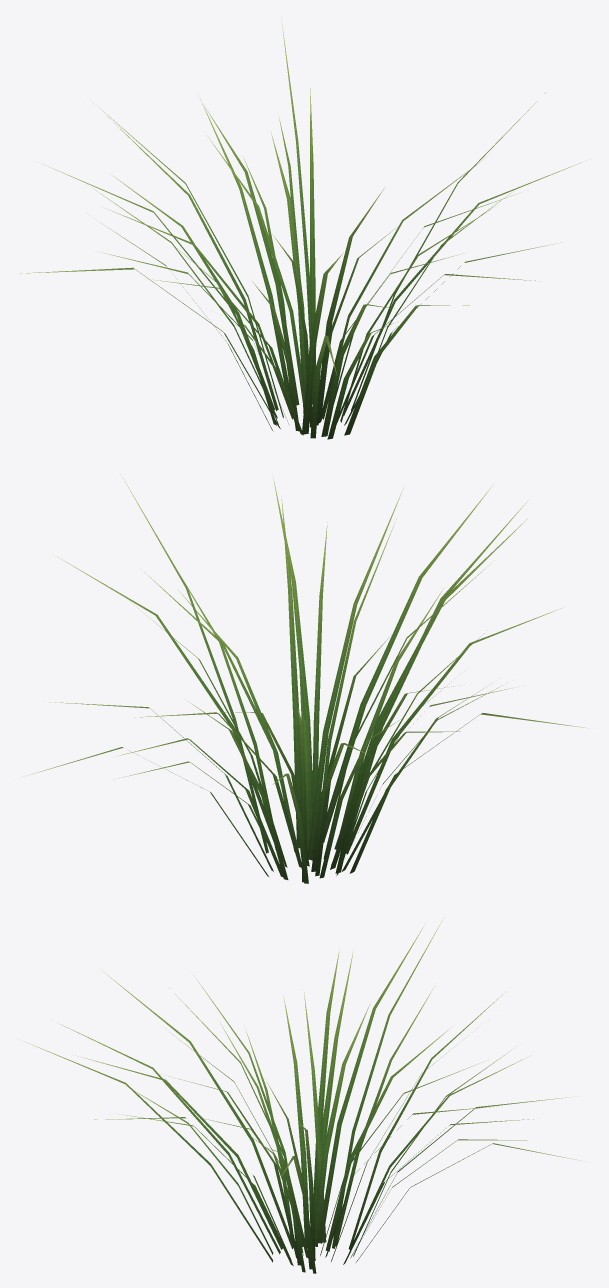
Rendered from Tall_grass.lod1.glb.
3 views of the same model, one above another, from view 1: azimuth 30°, elevation 25°; view 2: azimuth 150°, elevation 25°; view 3: azimuth 270°, elevation 25° (orthographic). The views are drawn at different scales.
Parts seen in each view (by area): view 1: Grass; view 2: Grass; view 3: Grass.
Part boxes in pixels (<box>): Grass: <box>20,18,581,439</box>; Grass: <box>23,476,587,883</box>; Grass: <box>24,920,581,1273</box>.
Bounding box in the file's own units: 1.53 × 0.8369 × 1.57.
1 material, 1 textured.
